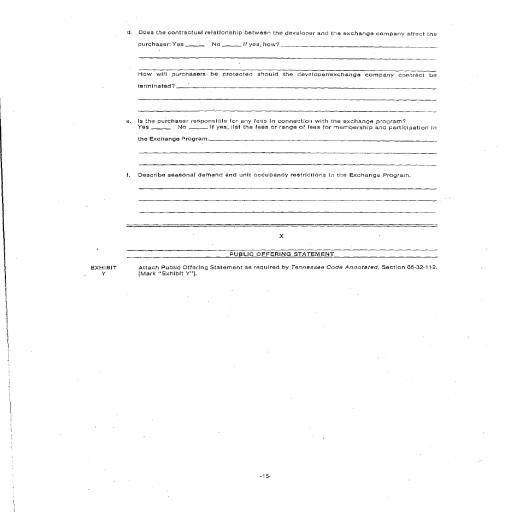check_box: (172, 38, 241, 50), (137, 124, 209, 132)
free_text: (137, 71, 438, 82), (137, 171, 412, 181), (210, 124, 437, 133), (243, 39, 280, 50)
